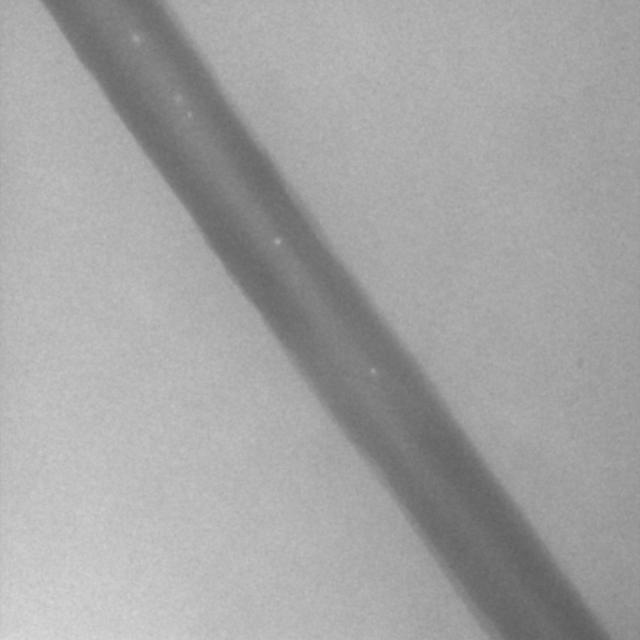air-hole: (132, 30, 144, 42), (274, 234, 283, 247), (371, 362, 378, 374), (174, 91, 181, 101), (188, 109, 192, 120)
